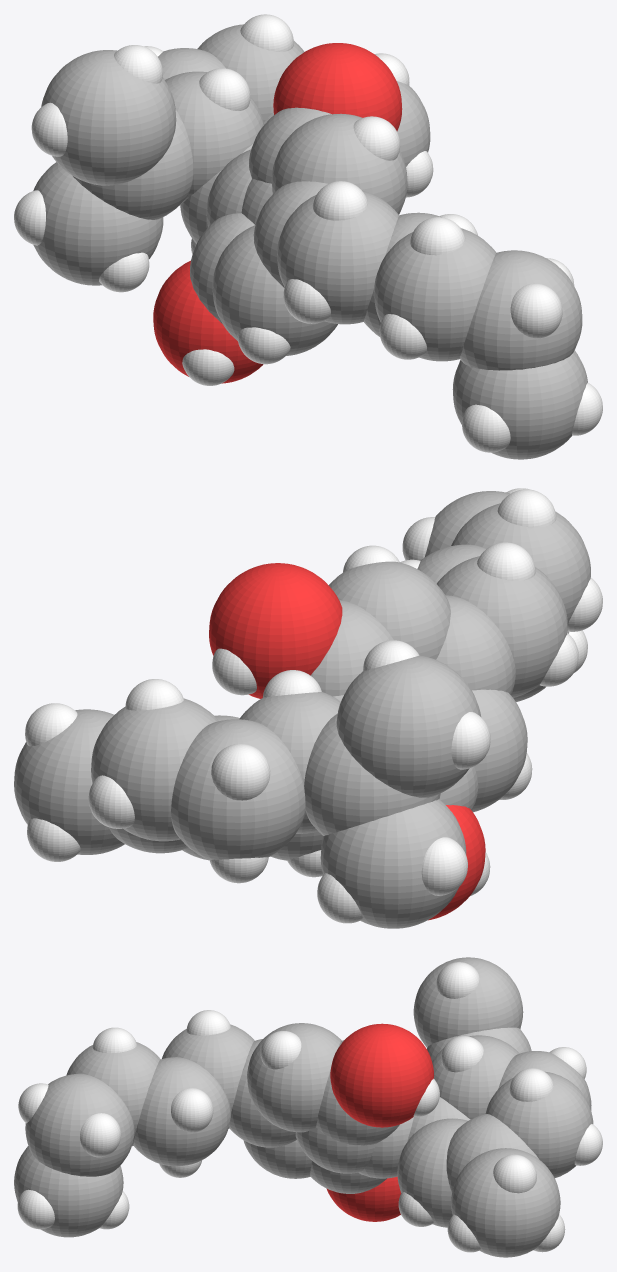
The model's file is CBD_VDW.fbx.
3 renders of one model, top to bottom at view 1: azimuth 30°, elevation 25°; view 2: azimuth 150°, elevation 25°; view 3: azimuth 270°, elevation 25°, orthographic. The views are drawn at different scales.
Visible parts, largest first — view 1: Carbon_mesh|Carbon_ball|Dupli|8, Carbon_mesh|Carbon_ball|Dupli|18, Carbon_mesh|Carbon_ball|Dupli|16, Carbon_mesh|Carbon_ball|Dupli|19, Carbon_mesh|Carbon_ball|Dupli|20, Carbon_mesh|Carbon_ball|Dupli|9, Oxygen_mesh|Oxygen_ball|Dupli|, Carbon_mesh|Carbon_ball|Dupli|12, Carbon_mesh|Carbon_ball|Dupli|14, Carbon_mesh|Carbon_ball|Dupli|4, Oxygen_mesh|Oxygen_ball|Dupli|1, Carbon_mesh|Carbon_ball|Dupli|7 (+27 smaller); view 2: Carbon_mesh|Carbon_ball|Dupli|8, Carbon_mesh|Carbon_ball|Dupli|5, Oxygen_mesh|Oxygen_ball|Dupli|, Carbon_mesh|Carbon_ball|Dupli|9, Carbon_mesh|Carbon_ball|Dupli|6, Carbon_mesh|Carbon_ball|Dupli|, Carbon_mesh|Carbon_ball|Dupli|16, Carbon_mesh|Carbon_ball|Dupli|12, Carbon_mesh|Carbon_ball|Dupli|7, Carbon_mesh|Carbon_ball|Dupli|18, Carbon_mesh|Carbon_ball|Dupli|13, Carbon_mesh|Carbon_ball|Dupli|14 (+27 smaller); view 3: Oxygen_mesh|Oxygen_ball|Dupli|, Carbon_mesh|Carbon_ball|Dupli|, Carbon_mesh|Carbon_ball|Dupli|19, Carbon_mesh|Carbon_ball|Dupli|17, Carbon_mesh|Carbon_ball|Dupli|12, Carbon_mesh|Carbon_ball|Dupli|8, Carbon_mesh|Carbon_ball|Dupli|6, Carbon_mesh|Carbon_ball|Dupli|20, Carbon_mesh|Carbon_ball|Dupli|2, Carbon_mesh|Carbon_ball|Dupli|4, Carbon_mesh|Carbon_ball|Dupli|18, Carbon_mesh|Carbon_ball|Dupli|16 (+30 smaller).
Boxes of the visible parts, x1,y1,x2,y2 form: Carbon_mesh|Carbon_ball|Dupli|8: (41, 50, 176, 185); Carbon_mesh|Carbon_ball|Dupli|18: (374, 228, 496, 361); Carbon_mesh|Carbon_ball|Dupli|16: (277, 190, 398, 324); Carbon_mesh|Carbon_ball|Dupli|19: (460, 250, 582, 370); Carbon_mesh|Carbon_ball|Dupli|20: (452, 350, 587, 459); Carbon_mesh|Carbon_ball|Dupli|9: (33, 162, 163, 285); Oxygen_mesh|Oxygen_ball|Dupli|: (273, 43, 402, 131); Carbon_mesh|Carbon_ball|Dupli|12: (271, 113, 407, 214); Carbon_mesh|Carbon_ball|Dupli|14: (212, 225, 337, 355); Carbon_mesh|Carbon_ball|Dupli|4: (165, 71, 264, 204); Oxygen_mesh|Oxygen_ball|Dupli|1: (153, 260, 263, 383); Carbon_mesh|Carbon_ball|Dupli|7: (73, 109, 193, 219); Carbon_mesh|Carbon_ball|Dupli|8: (336, 655, 481, 797); Carbon_mesh|Carbon_ball|Dupli|5: (171, 719, 305, 859); Oxygen_mesh|Oxygen_ball|Dupli|: (209, 563, 342, 698); Carbon_mesh|Carbon_ball|Dupli|9: (320, 799, 466, 928); Carbon_mesh|Carbon_ball|Dupli|6: (91, 698, 218, 841); Carbon_mesh|Carbon_ball|Dupli|: (14, 709, 124, 854); Carbon_mesh|Carbon_ball|Dupli|16: (437, 556, 567, 697); Carbon_mesh|Carbon_ball|Dupli|12: (328, 561, 450, 659); Carbon_mesh|Carbon_ball|Dupli|7: (304, 714, 440, 835); Carbon_mesh|Carbon_ball|Dupli|18: (451, 503, 590, 623); Carbon_mesh|Carbon_ball|Dupli|13: (436, 595, 515, 694); Carbon_mesh|Carbon_ball|Dupli|14: (472, 689, 527, 812); Oxygen_mesh|Oxygen_ball|Dupli|: (330, 1023, 434, 1127); Carbon_mesh|Carbon_ball|Dupli|: (451, 1148, 560, 1257); Carbon_mesh|Carbon_ball|Dupli|19: (25, 1073, 134, 1176); Carbon_mesh|Carbon_ball|Dupli|17: (133, 1057, 230, 1166); Carbon_mesh|Carbon_ball|Dupli|12: (247, 1023, 341, 1132); Carbon_mesh|Carbon_ball|Dupli|8: (413, 957, 523, 1047); Carbon_mesh|Carbon_ball|Dupli|6: (485, 1071, 593, 1177); Carbon_mesh|Carbon_ball|Dupli|20: (14, 1146, 123, 1237); Carbon_mesh|Carbon_ball|Dupli|2: (397, 1118, 467, 1227); Carbon_mesh|Carbon_ball|Dupli|4: (432, 1035, 519, 1119); Carbon_mesh|Carbon_ball|Dupli|18: (66, 1042, 160, 1146); Carbon_mesh|Carbon_ball|Dupli|16: (162, 1024, 254, 1128).
Size of the model in its own units: 935 by 654 by 1449.
